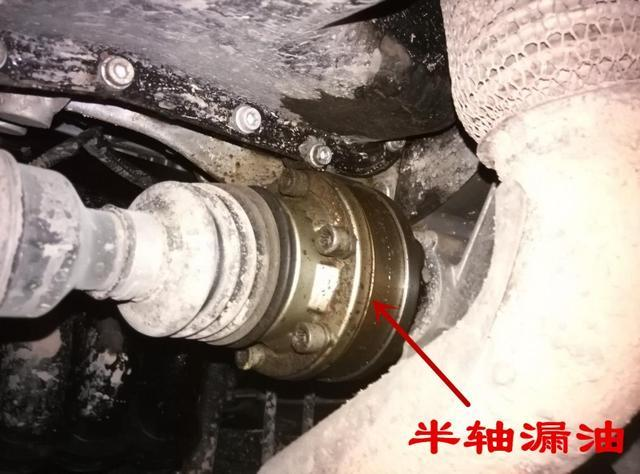oil: (236, 78, 467, 377)
